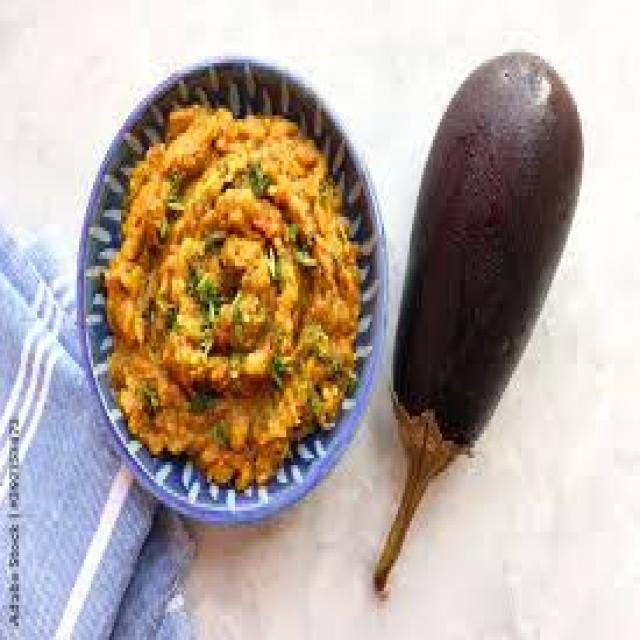POHA: (105, 101, 361, 483)
